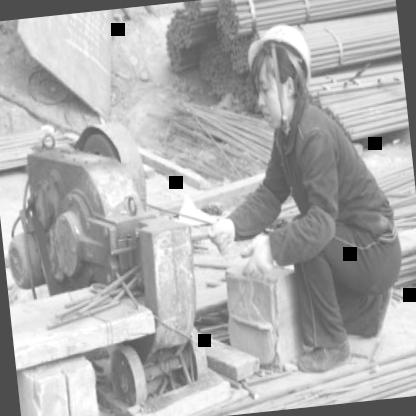helmet: (233, 6, 329, 134)
